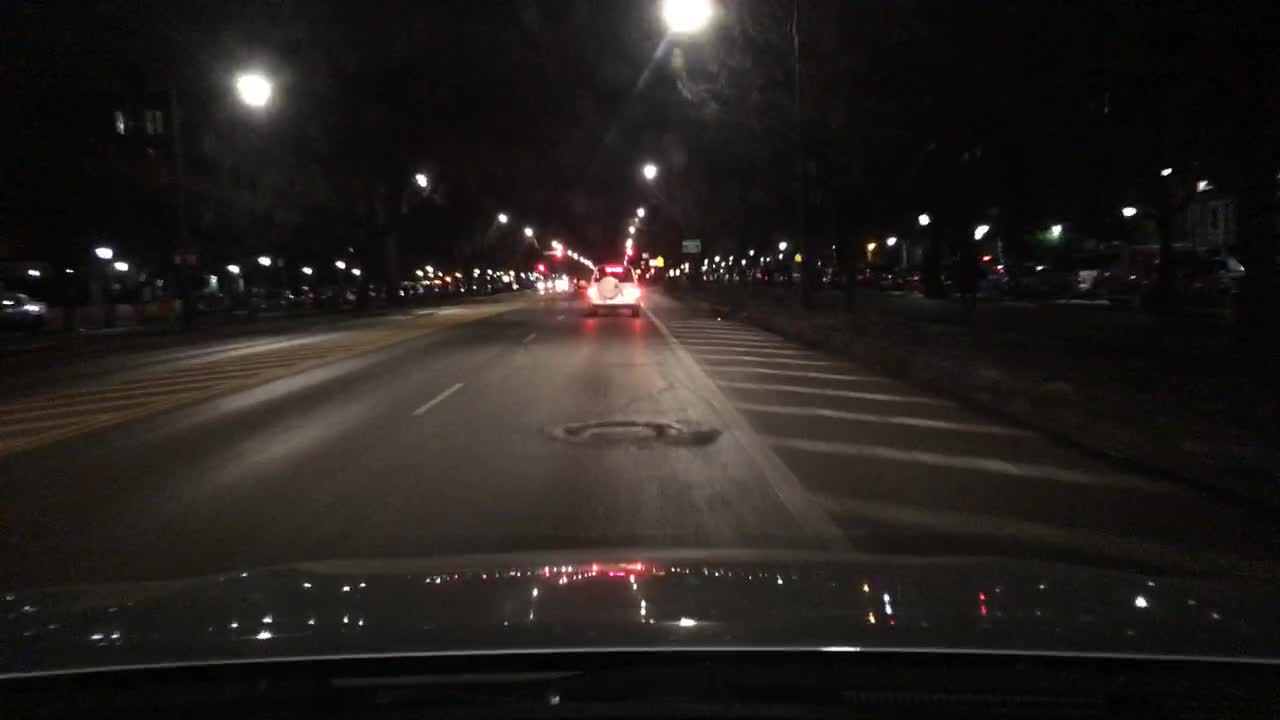car: (1097, 242, 1243, 304), (592, 261, 638, 311), (1, 291, 48, 336), (1060, 251, 1105, 297), (262, 280, 313, 314), (325, 283, 376, 308), (948, 274, 997, 299), (432, 272, 471, 295), (461, 268, 491, 296), (395, 275, 427, 298), (415, 270, 442, 296), (907, 268, 931, 296), (857, 265, 880, 290), (490, 272, 519, 291), (888, 267, 908, 293), (817, 261, 837, 285), (552, 271, 573, 291), (516, 270, 531, 291), (787, 264, 804, 282), (771, 267, 786, 285), (751, 267, 768, 280), (731, 268, 747, 280), (714, 272, 729, 280)
traffic light: (536, 262, 549, 279), (558, 242, 567, 261), (626, 242, 635, 257)
traffic sign: (681, 238, 705, 254), (649, 253, 664, 267)
